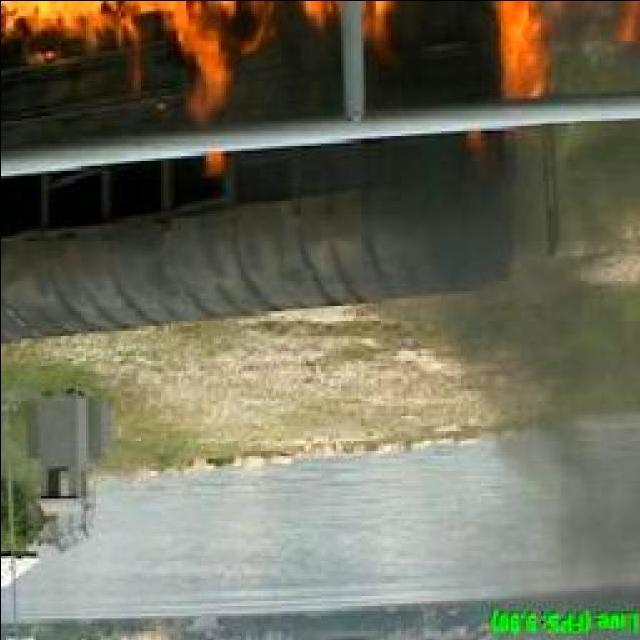Fire: (0, 0, 270, 99), (462, 0, 634, 90), (286, 0, 396, 65)
